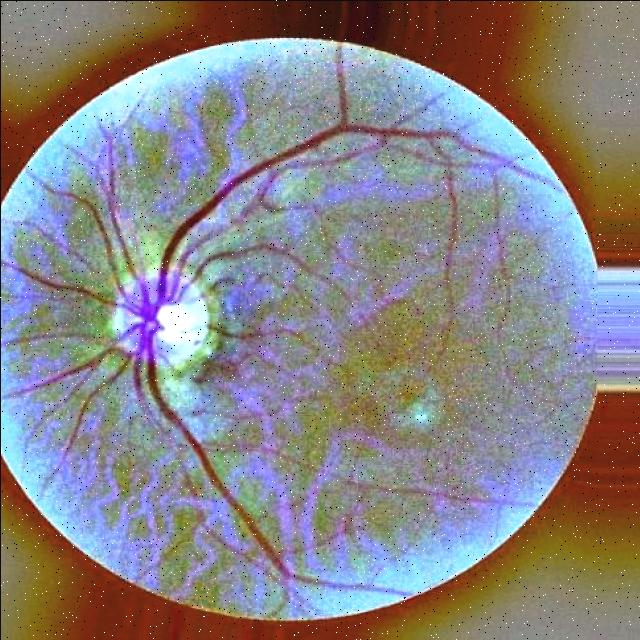Macula: (353, 299, 442, 433)
Nerves: (130, 123, 462, 579)
Optic Disk: (112, 274, 217, 368)
